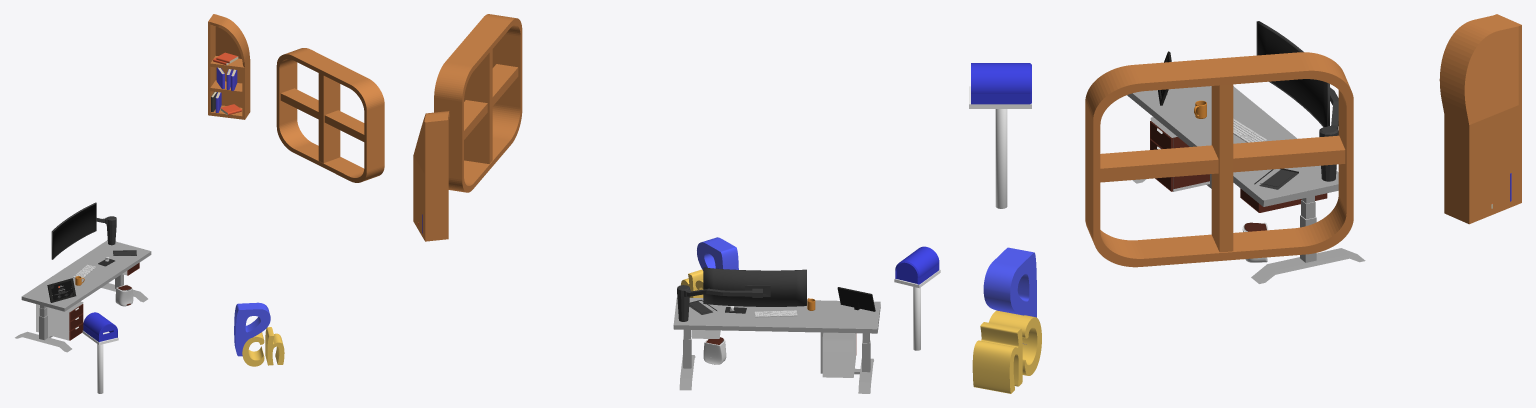
Rendered from ObjectsMainScene.glb.
3 renders of one model, left to right at view 1: azimuth 30°, elevation 25°; view 2: azimuth 150°, elevation 25°; view 3: azimuth 270°, elevation 25°, orthographic. The views are drawn at different scales.
Visible parts, largest first — view 1: Cube.001, Escritorio, Repisa, SoporteMesa, Cube.002, Cube.003, Texto.001, Texto.002, Techo, SoporteVertical; view 2: Escritorio, Cube.001, SoporteMesa, Repisa, Cube.002, Cube.003, Techo, Texto.001, ImagenPortaretratos, SoporteVertical, Tacho; view 3: Cube.001, Repisa, Escritorio, Cube.003, Texto.002, Cube.002, SoporteMesa, Texto.001, Techo, SoporteVertical, Tablet.
Boxes of the visible parts, box(x1,y1,x2,y2) form: Cube.001: box(276, 48, 384, 182); Escritorio: box(15, 240, 151, 352); Repisa: box(208, 14, 250, 119); SoporteMesa: box(51, 202, 116, 259); Cube.002: box(318, 73, 340, 163); Cube.003: box(280, 88, 364, 141); Texto.001: box(234, 302, 270, 356); Texto.002: box(242, 327, 284, 366); Techo: box(83, 312, 117, 342); SoporteVertical: box(97, 344, 103, 393); Escritorio: box(673, 298, 880, 393); Cube.001: box(434, 14, 522, 192); SoporteMesa: box(677, 267, 806, 321); Repisa: box(413, 111, 449, 241); Cube.002: box(464, 49, 492, 163); Cube.003: box(464, 64, 518, 139); Techo: box(895, 246, 939, 284); Texto.001: box(697, 237, 738, 270); ImagenPortaretratos: box(837, 287, 875, 311); SoporteVertical: box(913, 287, 920, 350); Tacho: box(703, 339, 726, 364); Cube.001: box(1085, 52, 1353, 267); Repisa: box(1439, 14, 1521, 224); Escritorio: box(1127, 86, 1365, 283); Cube.003: box(1100, 135, 1345, 182); Texto.002: box(972, 310, 1041, 393); Cube.002: box(1211, 84, 1233, 252); SoporteMesa: box(1256, 21, 1338, 181); Texto.001: box(983, 247, 1036, 344); Techo: box(971, 63, 1031, 104); SoporteVertical: box(995, 109, 1007, 208); Tablet: box(1254, 168, 1298, 189).
Size of the model in its own units: 9.76 by 6.38 by 7.39.
20 materials, 1 textured.
